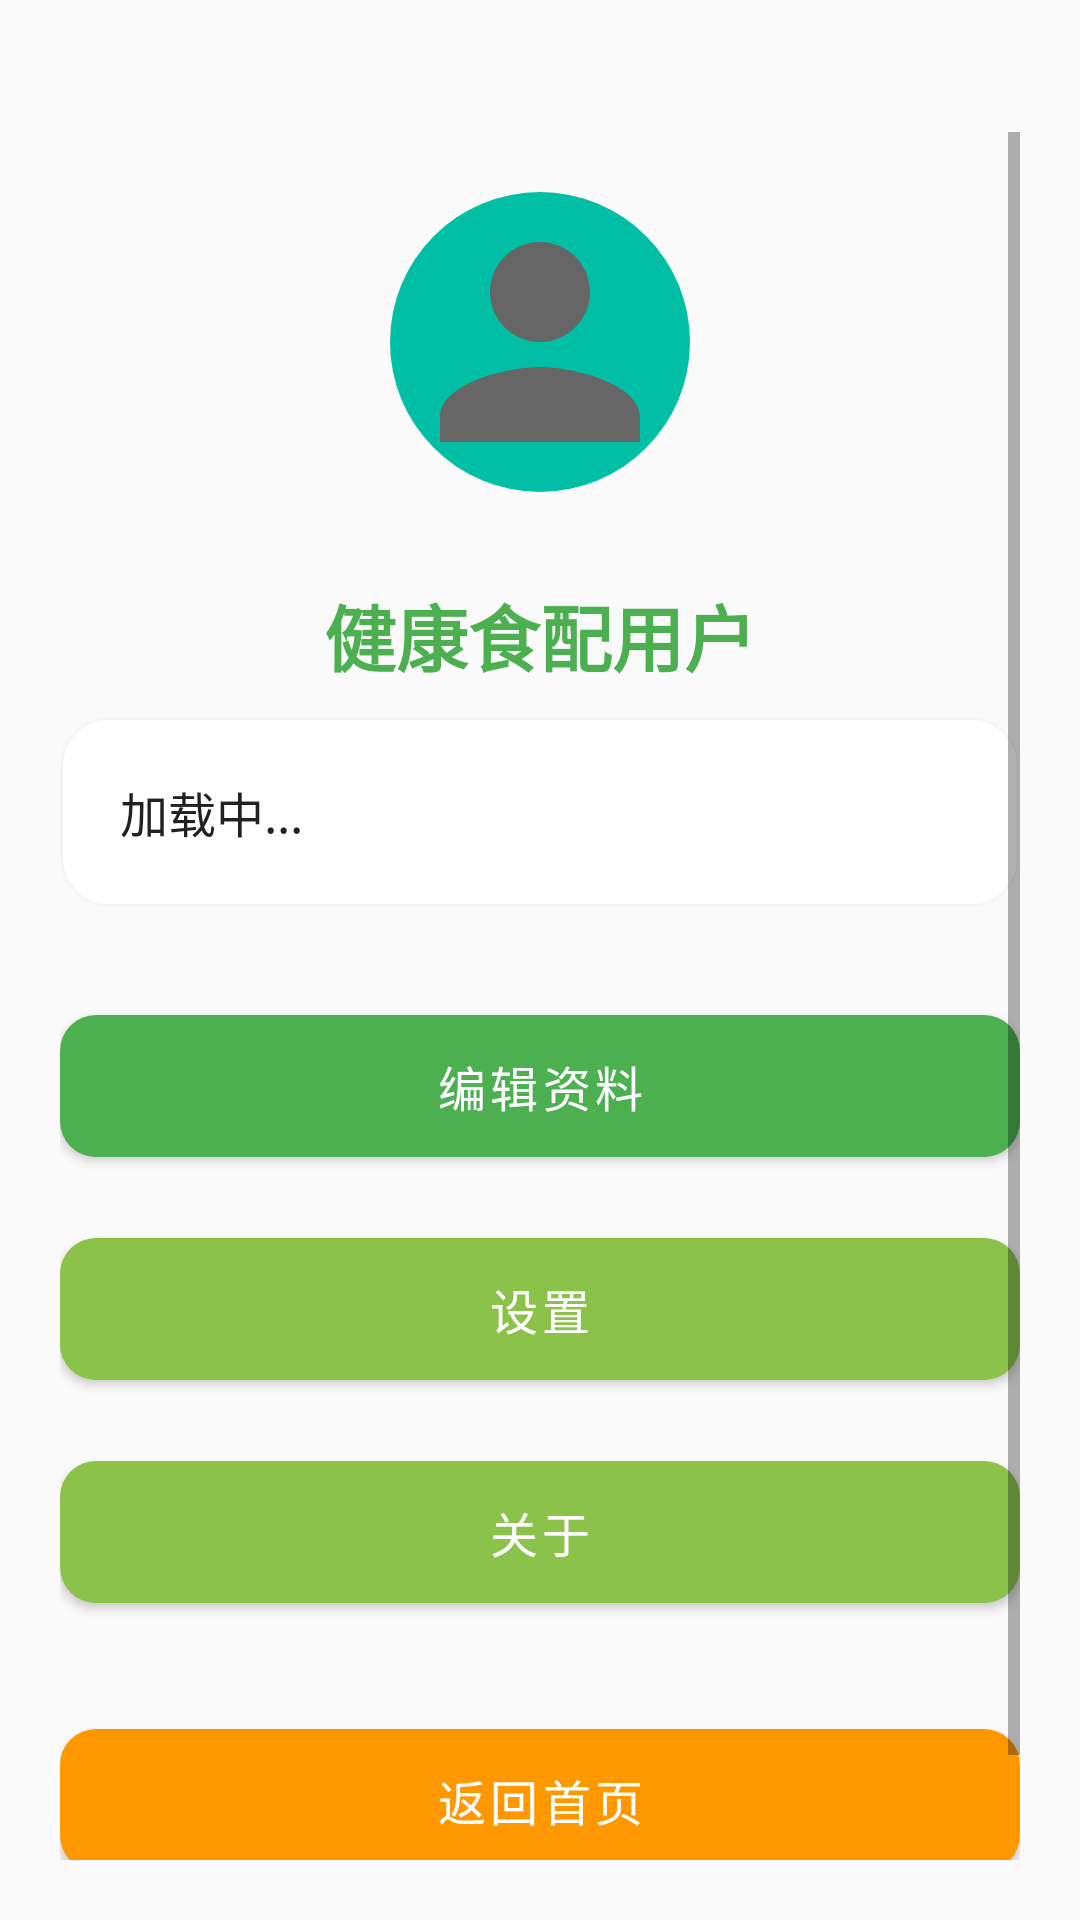

Locate icon controls on the screen. Image size 1080px×1920px, boxes as (x1, y1, x2, y2).
person: (390, 192, 690, 492)
